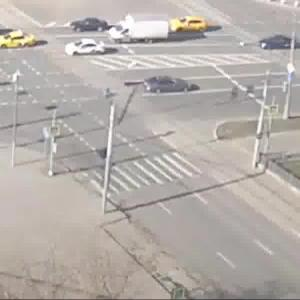car: (61, 4, 112, 35), (146, 70, 208, 95), (113, 20, 162, 48), (4, 27, 41, 59), (62, 38, 109, 58), (260, 33, 300, 56), (170, 20, 209, 36)
